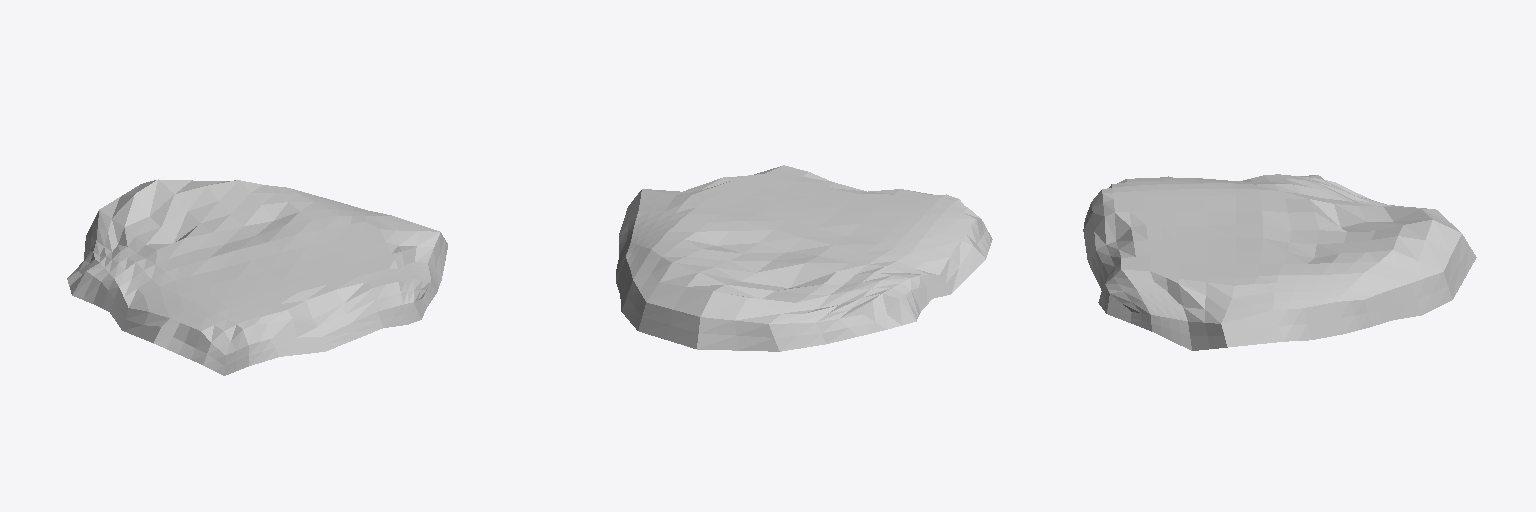
The model's file is Terrenolow.obj.
The picture shows the model from 3 angles: view 1: azimuth 30°, elevation 25°; view 2: azimuth 150°, elevation 25°; view 3: azimuth 270°, elevation 25°; orthographic projection.
Visible parts, largest first — view 1: Plane.003; view 2: Plane.003; view 3: Plane.003.
Part boxes in pixels (x1,y1,x2,y2): Plane.003: (67, 179, 447, 375); Plane.003: (616, 165, 992, 351); Plane.003: (1083, 174, 1476, 350).
Bounding box in the file's own units: 8.21 × 1.22 × 8.42.